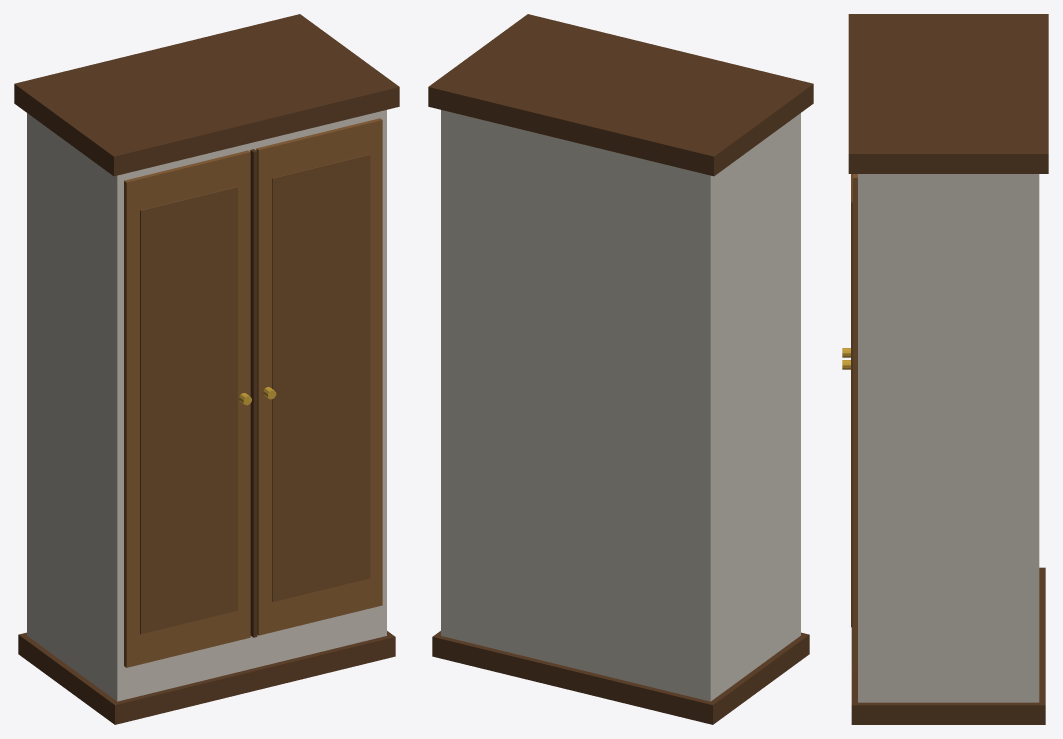
Rendered from wardrobe.glb.
3 views of the same model, side by side, from view 1: azimuth 30°, elevation 25°; view 2: azimuth 150°, elevation 25°; view 3: azimuth 270°, elevation 25° (orthographic).
Visible parts, largest first — view 1: wardrobe; view 2: wardrobe; view 3: wardrobe.
Part boxes in pixels (left/top/right/bottom): wardrobe: left=14, top=14, right=399, bottom=724; wardrobe: left=428, top=14, right=813, bottom=724; wardrobe: left=842, top=14, right=1048, bottom=724.
Bounding box in the file's own units: 1.06 × 2.02 × 0.66.
